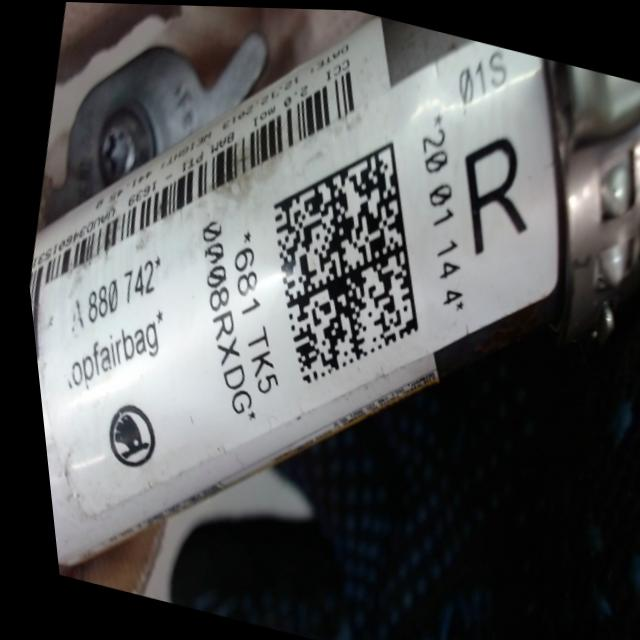datamatrix: (224, 111, 459, 408)
